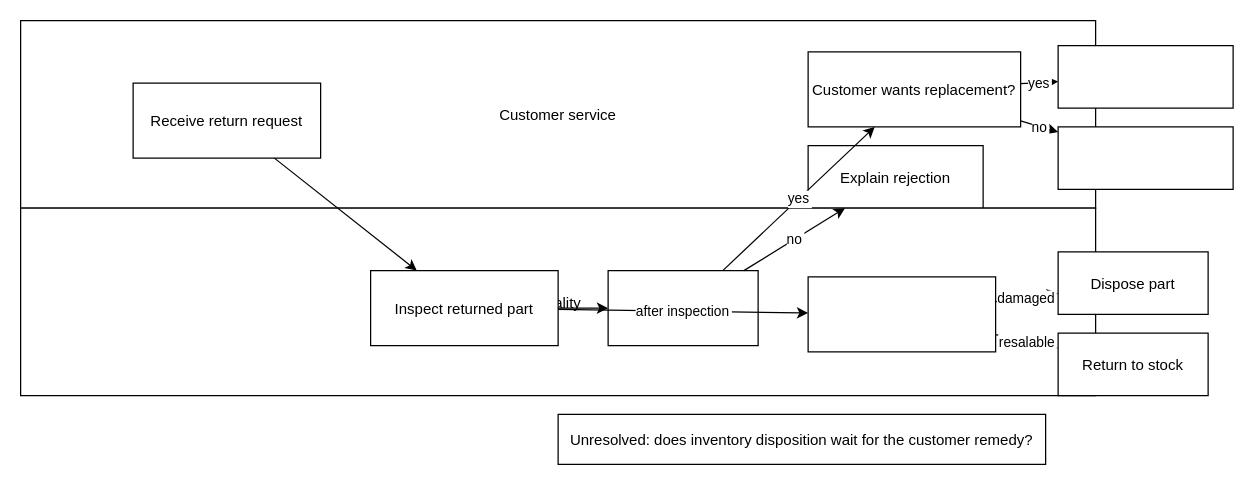
This 1254x485 diagram has some shape labels left out. Each missing label, with the box of its shape:
Issue refund: (1057, 126, 1233, 189)
Restock or dispose?: (807, 276, 996, 352)
Return eligible?: (607, 269, 758, 346)
Send replacement: (1057, 44, 1233, 108)
